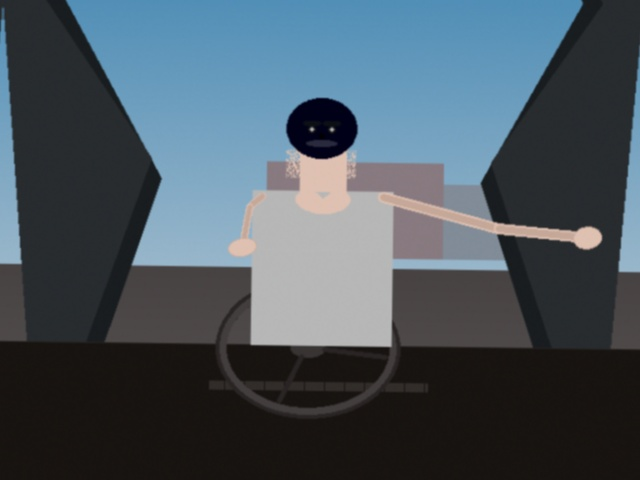hands_off_wheel: (565, 212, 610, 256)
